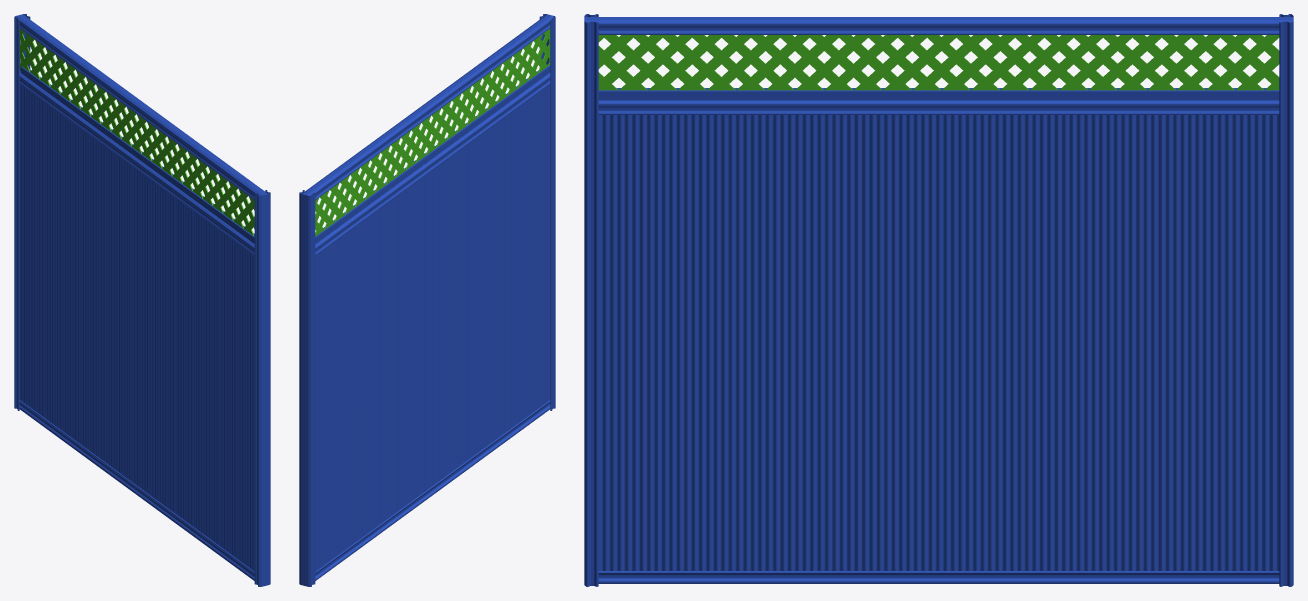
The model's file is STEPCGM.glb.
3 views of the same model, side by side, from view 1: azimuth 30°, elevation 25°; view 2: azimuth 150°, elevation 25°; view 3: azimuth 270°, elevation 25° (orthographic). The views are drawn at different scales.
Parts seen in each view (by area): view 1: STEPCGM_08; view 2: STEPCGM_08; view 3: STEPCGM_08.
Boxes of the visible parts, x1,y1,x2,y2 form: STEPCGM_08: (14, 14, 270, 586); STEPCGM_08: (299, 14, 555, 586); STEPCGM_08: (584, 14, 1293, 586).
Bounding box in the file's own units: 0.07 × 2.1 × 2.39.
